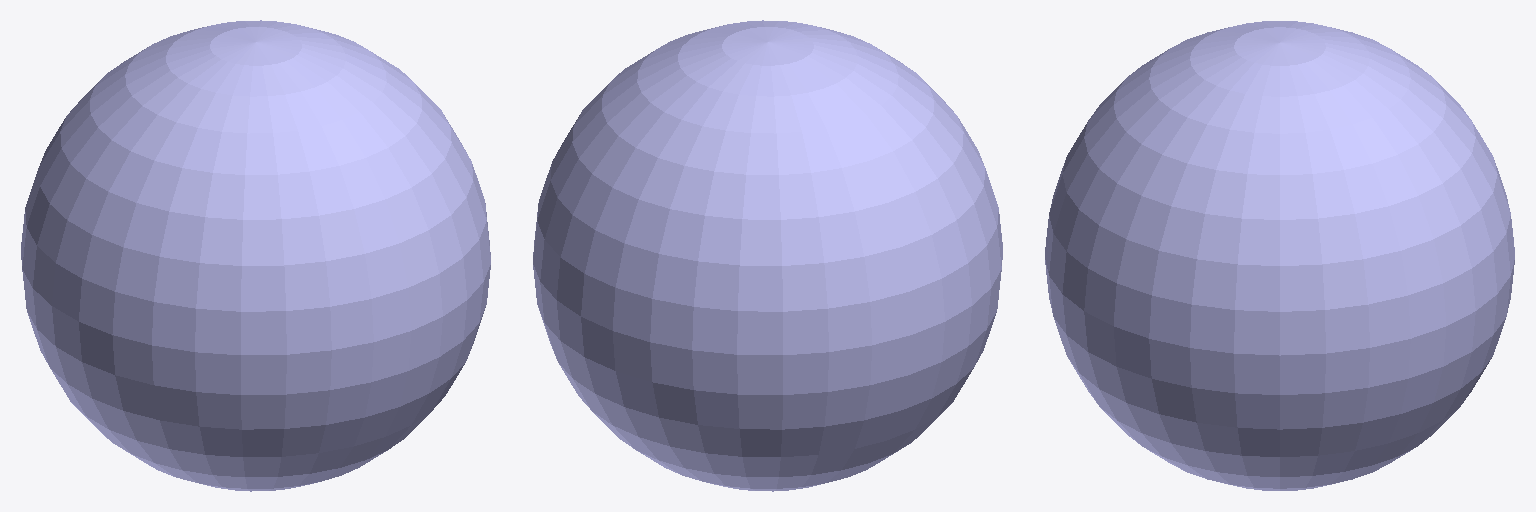
The robot description file, URDF, robot "urdf_robot":
<?xml version="1.0" ?>
<robot name="urdf_robot">
  <link name="base_link">
    <contact>
      <rolling_friction value="0.0"/>
      <spinning_friction value="0.0"/>
    </contact>
    <inertial>
      <origin rpy="0 0 0" xyz="0 0 0"/>
       <mass value=".01"/>
       <inertia ixx="0.0001" ixy="0" ixz="0" iyy="0.0001" iyz="0" izz="0.0001"/>
    </inertial>
    
    <collision>
      <origin rpy="0 0 0" xyz="0 0 0"/>
      <geometry>
	 <sphere radius="0.01"/>
      </geometry>
    </collision>
    <visual>
      <origin rpy="0 0 0" xyz="0 0 0"/>
      <geometry>
	 <sphere radius="0.01"/>
      </geometry>
      <material name="lightblue">
        <color rgba="0.8 0.8 1 1"/>
        <specular rgb="1 1 1"/>
      </material>
    </visual>
  </link>
</robot>

--- Render facts (derived) ---
Views: 3 orthographic renders of the robot side by side, from view 1: azimuth 30°, elevation 25°; view 2: azimuth 150°, elevation 25°; view 3: azimuth 270°, elevation 25°.
Robot: urdf_robot — 1 links, 0 joints (none); root link base_link; default pose: all joints at 0.
Links seen in each view (by area): view 1: base_link; view 2: base_link; view 3: base_link.
Boxes of the visible links, x1,y1,x2,y2 form: base_link: [21, 20, 490, 491]; base_link: [533, 20, 1002, 491]; base_link: [1045, 21, 1514, 490].
Size in the robot's own frame: 0.02 by 0.02 by 0.02 metres.
Geometry: primitives only (box / cylinder / sphere), no mesh files.
